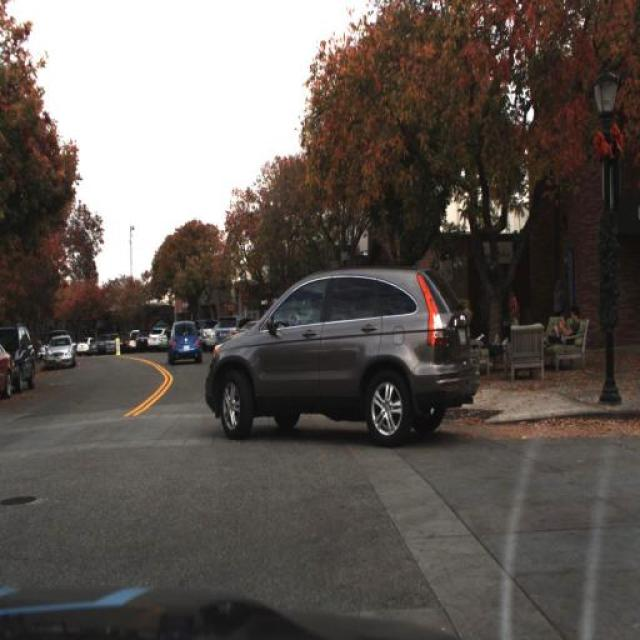car: (202, 259, 479, 447), (2, 325, 38, 394), (166, 314, 202, 365), (44, 335, 77, 371), (0, 346, 12, 404), (146, 327, 166, 352), (76, 335, 90, 357)
trafficLight: (537, 306, 581, 352), (506, 284, 522, 334), (554, 275, 568, 317)
